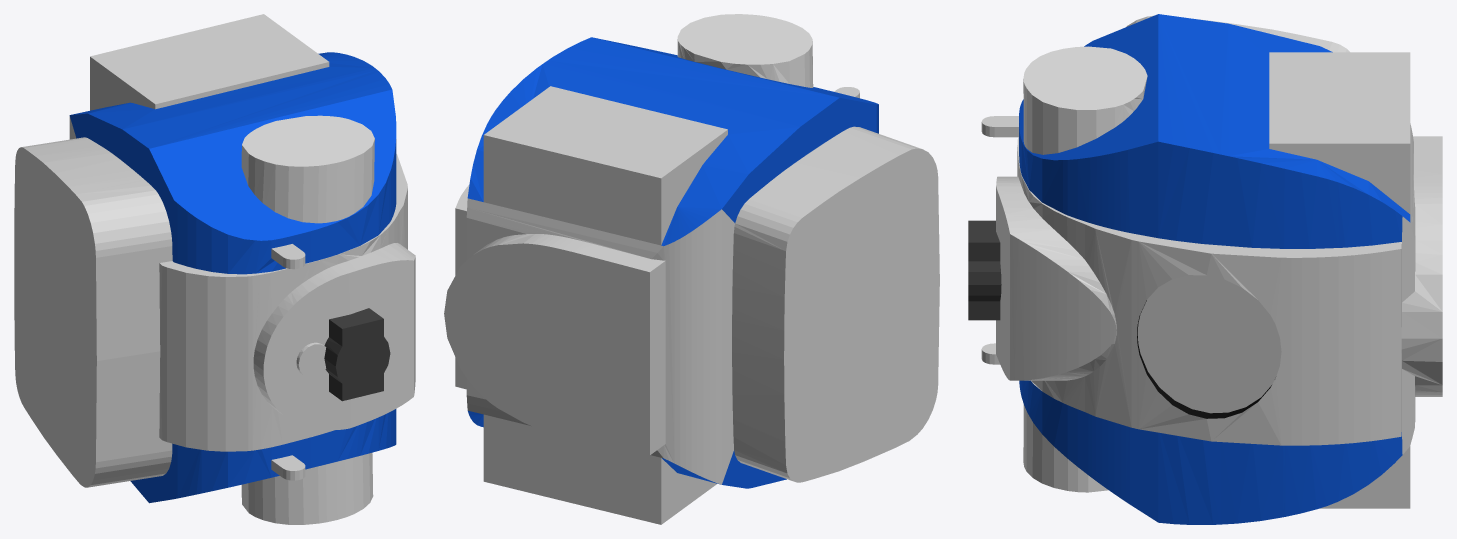
The model's file is CHEST_Y_LINK_mesh.dae.
The picture shows the model from 3 angles, left to right: view 1: azimuth 30°, elevation 25°; view 2: azimuth 150°, elevation 25°; view 3: azimuth 270°, elevation 25°; orthographic projection. The views are drawn at different scales.
Visible parts, largest first — view 1: CHEST_Y_LINK (×5); view 2: CHEST_Y_LINK (×4); view 3: CHEST_Y_LINK (×6).
Part boxes in pixels (x1=…): CHEST_Y_LINK (×5): x1=14, y1=14, x2=415, y2=524; CHEST_Y_LINK (×4): x1=444, y1=14, x2=939, y2=524; CHEST_Y_LINK (×6): x1=968, y1=14, x2=1442, y2=524.
Size of the model in its own units: 0.273 by 0.2635 by 0.293.
